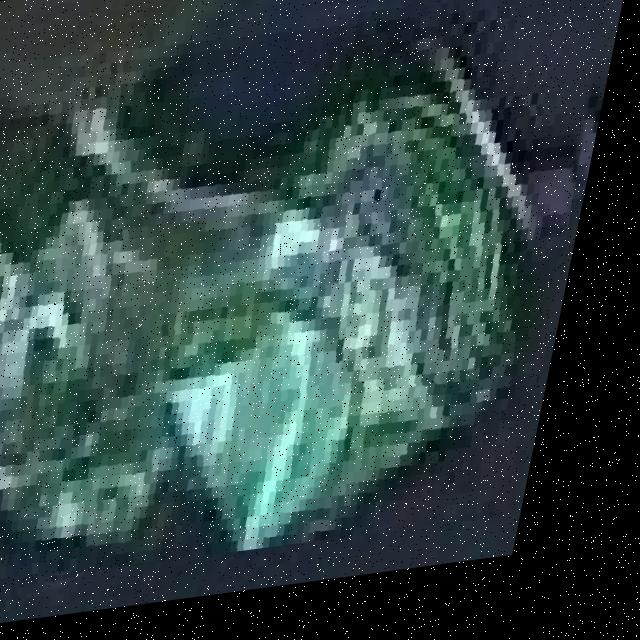can: (0, 0, 570, 588)
